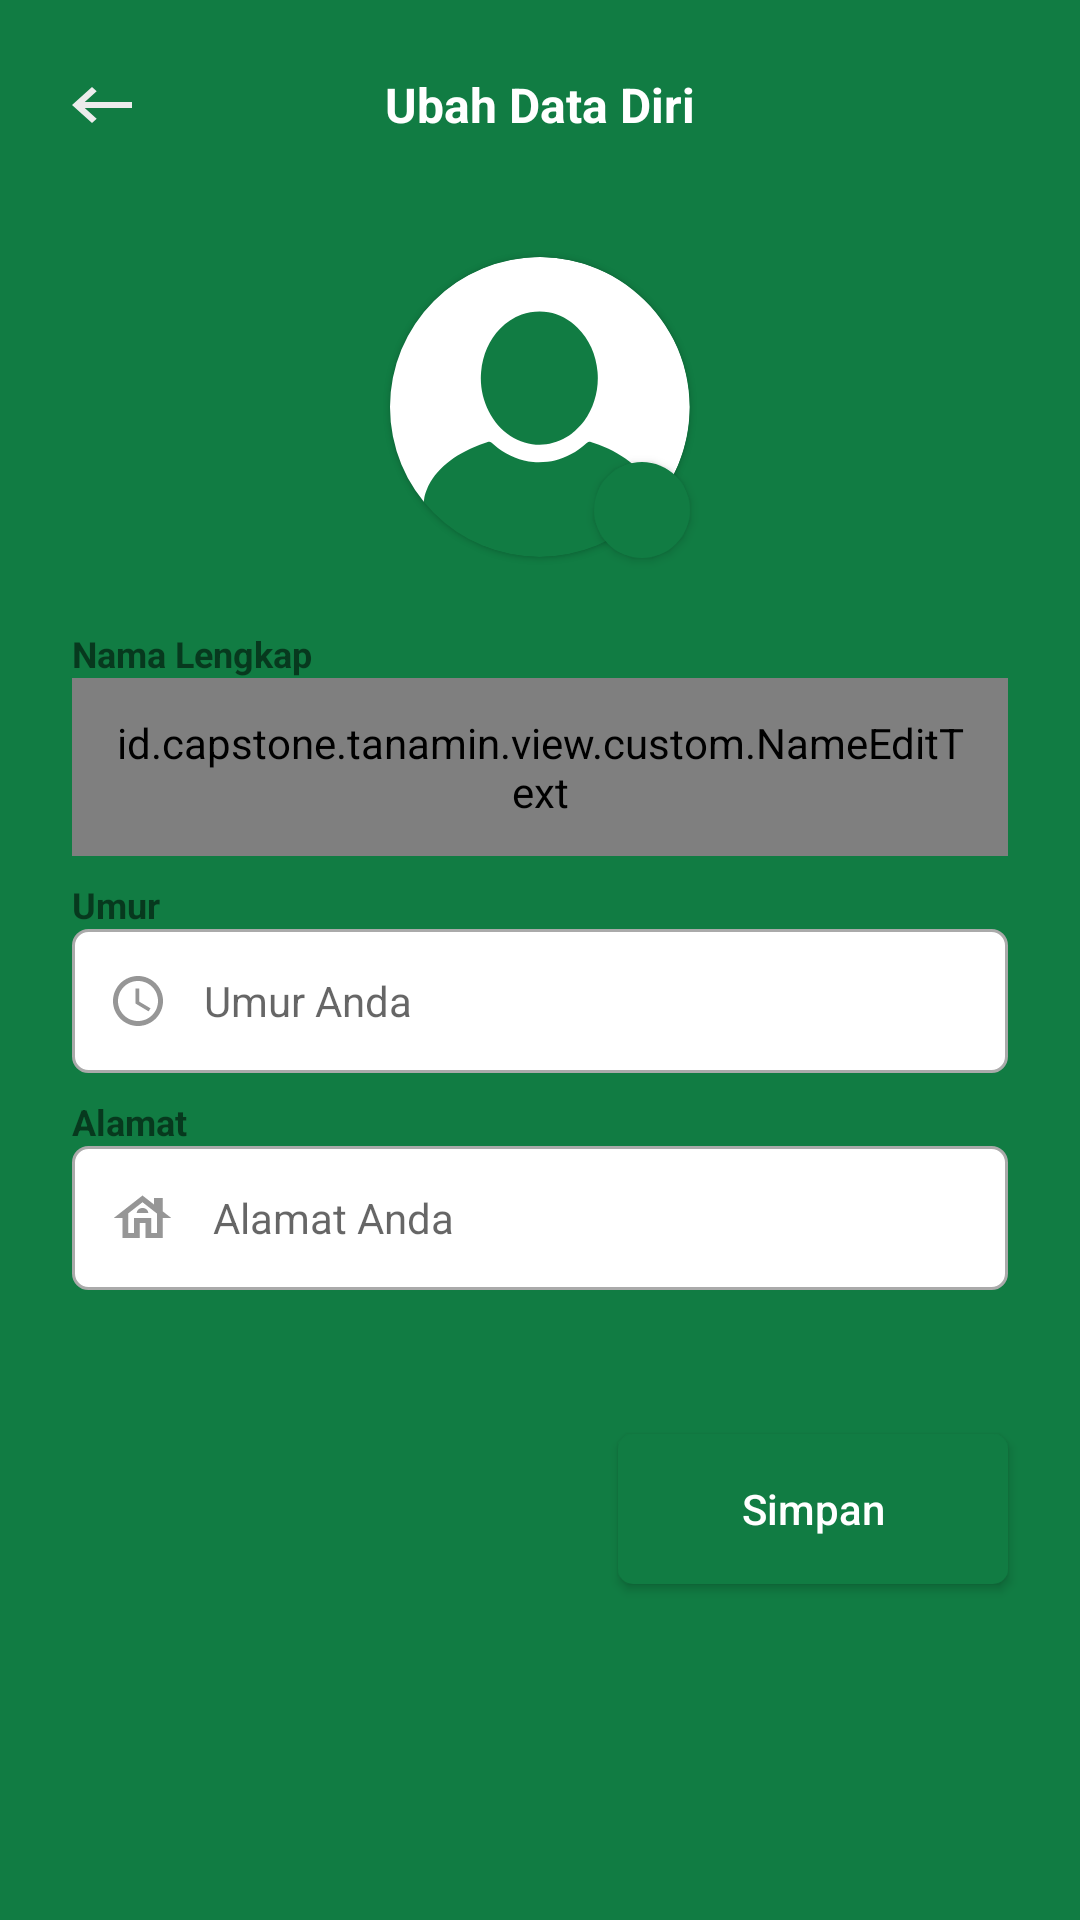

Point at icon controls on the screen. Image size 1080w x 1920h, points as (x,y).
profileuser illustration: (540,400)
Tombol Mundur: (102,105)
